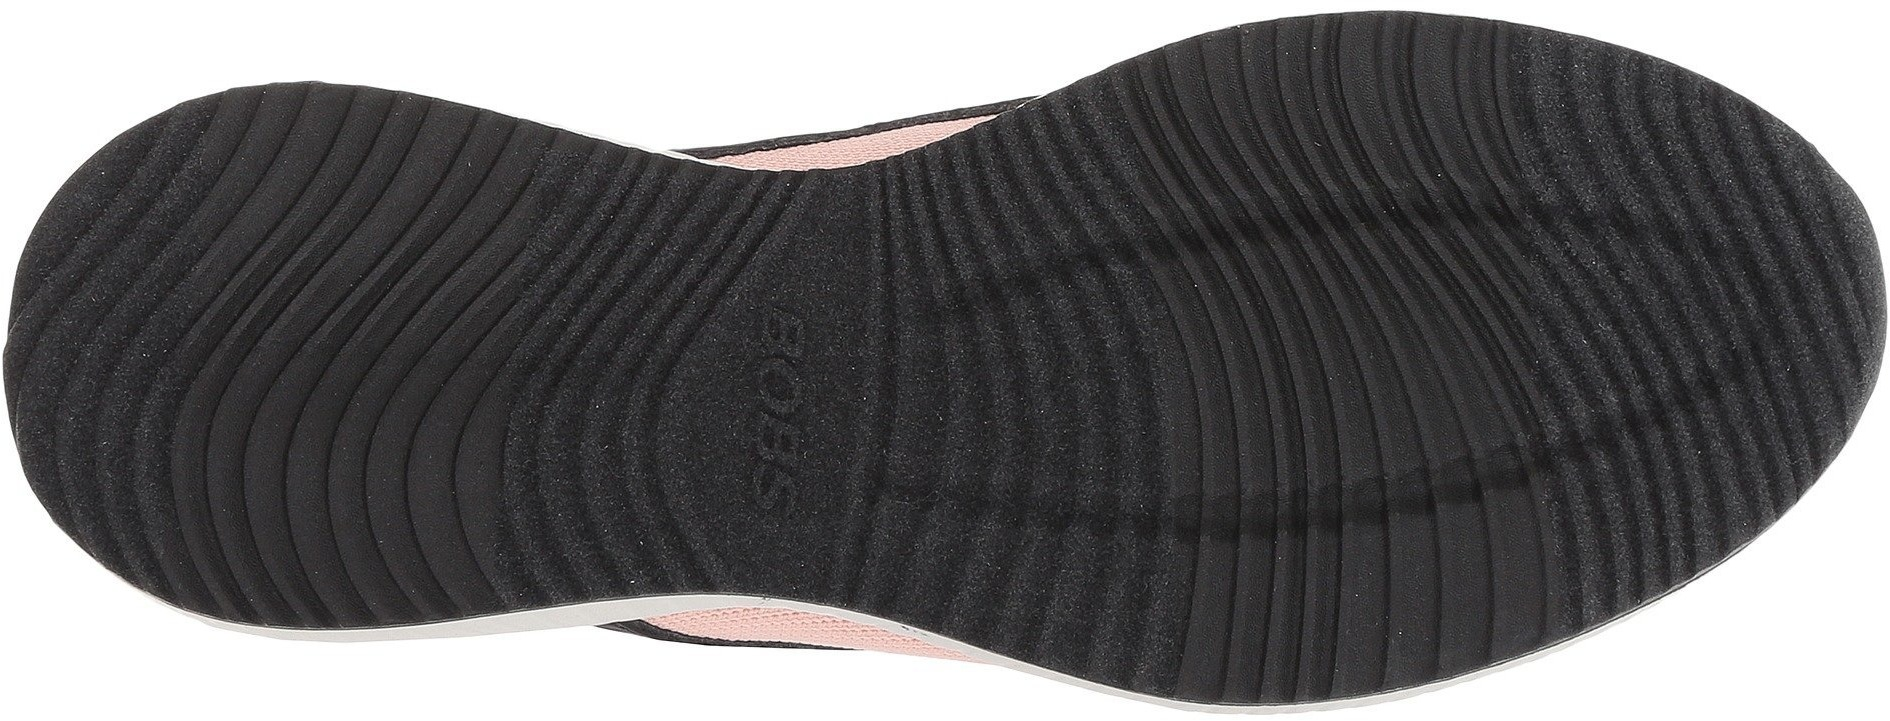text: (721, 423, 851, 531), (724, 311, 839, 421)
